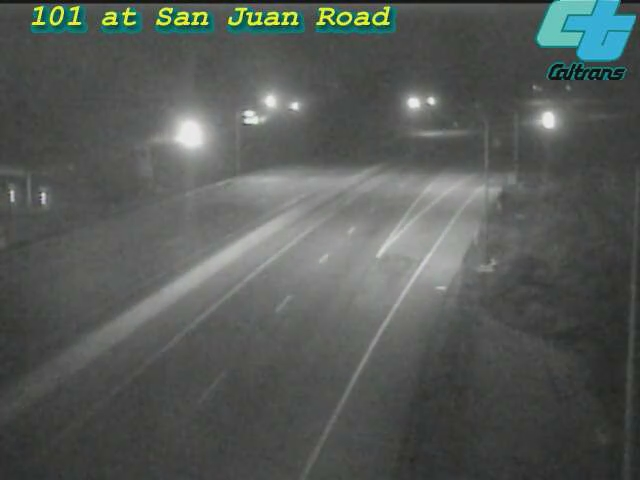vehicle: (521, 100, 571, 150)
